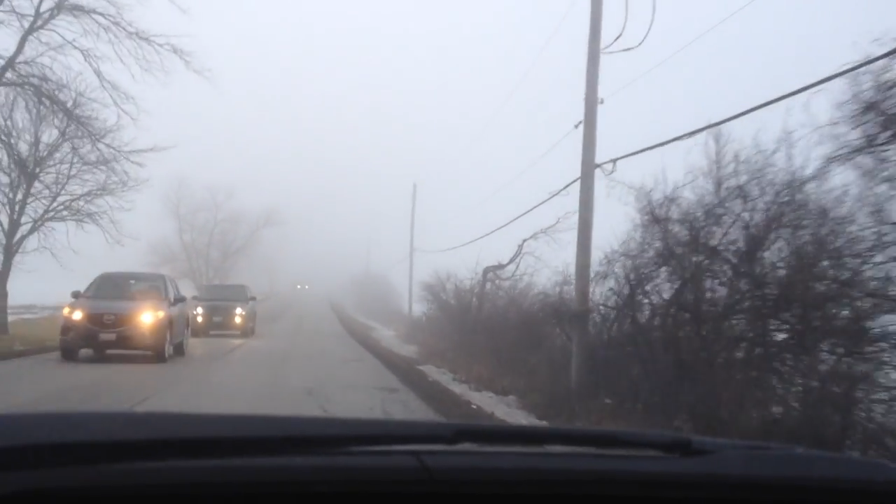car: (58, 269, 190, 362), (188, 281, 257, 337), (294, 279, 310, 292)
